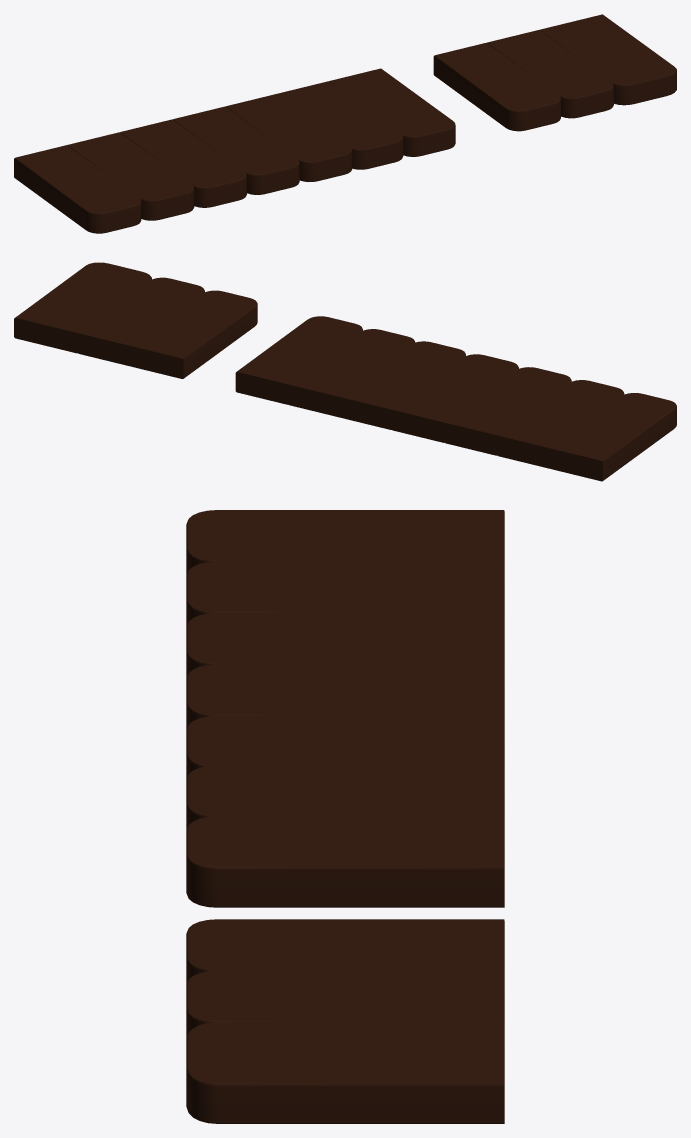
File: DockWoodPlanksOBJ.obj
3 renders of one model, top to bottom at view 1: azimuth 30°, elevation 25°; view 2: azimuth 150°, elevation 25°; view 3: azimuth 270°, elevation 25°, orthographic. The views are drawn at different scales.
Parts seen in each view (by area): view 1: WoodDock_Beam1 AllObjects AllObjects Objects, AllObjects AllObjects Objects WoodDock_Beam9, AllObjects AllObjects Objects WoodDock_Beam11, AllObjects AllObjects Objects WoodDock_Beam2, AllObjects AllObjects Objects WoodDock_Beam10, AllObjects AllObjects Objects WoodDock_Beam4, AllObjects AllObjects Objects WoodDock_Beam3, AllObjects AllObjects Objects WoodDock_Beam5, AllObjects AllObjects Objects WoodDock_Beam7, AllObjects AllObjects Objects WoodDock_Beam6; view 2: AllObjects AllObjects Objects WoodDock_Beam9, WoodDock_Beam1 AllObjects AllObjects Objects, AllObjects AllObjects Objects WoodDock_Beam11, AllObjects AllObjects Objects WoodDock_Beam10, AllObjects AllObjects Objects WoodDock_Beam2, AllObjects AllObjects Objects WoodDock_Beam3, AllObjects AllObjects Objects WoodDock_Beam4, AllObjects AllObjects Objects WoodDock_Beam7, AllObjects AllObjects Objects WoodDock_Beam5, AllObjects AllObjects Objects WoodDock_Beam6; view 3: AllObjects AllObjects Objects WoodDock_Beam11, AllObjects AllObjects Objects WoodDock_Beam7, AllObjects AllObjects Objects WoodDock_Beam10, AllObjects AllObjects Objects WoodDock_Beam3, AllObjects AllObjects Objects WoodDock_Beam4, AllObjects AllObjects Objects WoodDock_Beam9, WoodDock_Beam1 AllObjects AllObjects Objects, AllObjects AllObjects Objects WoodDock_Beam2, AllObjects AllObjects Objects WoodDock_Beam6, AllObjects AllObjects Objects WoodDock_Beam5.
Boxes of the visible parts, x1,y1,x2,y2 form: WoodDock_Beam1 AllObjects AllObjects Objects: (14, 145, 141, 233); AllObjects AllObjects Objects WoodDock_Beam9: (433, 42, 560, 131); AllObjects AllObjects Objects WoodDock_Beam11: (540, 14, 676, 105); AllObjects AllObjects Objects WoodDock_Beam2: (67, 132, 194, 220); AllObjects AllObjects Objects WoodDock_Beam10: (487, 30, 613, 118); AllObjects AllObjects Objects WoodDock_Beam4: (173, 106, 299, 194); AllObjects AllObjects Objects WoodDock_Beam3: (120, 119, 246, 207); AllObjects AllObjects Objects WoodDock_Beam5: (225, 93, 352, 181); AllObjects AllObjects Objects WoodDock_Beam7: (329, 68, 455, 156); AllObjects AllObjects Objects WoodDock_Beam6: (278, 81, 403, 169); AllObjects AllObjects Objects WoodDock_Beam9: (130, 290, 257, 378); WoodDock_Beam1 AllObjects AllObjects Objects: (549, 393, 676, 481); AllObjects AllObjects Objects WoodDock_Beam11: (14, 262, 151, 353); AllObjects AllObjects Objects WoodDock_Beam10: (77, 277, 204, 366); AllObjects AllObjects Objects WoodDock_Beam2: (496, 380, 624, 468); AllObjects AllObjects Objects WoodDock_Beam3: (444, 367, 571, 455); AllObjects AllObjects Objects WoodDock_Beam4: (391, 354, 518, 442); AllObjects AllObjects Objects WoodDock_Beam7: (235, 316, 362, 404); AllObjects AllObjects Objects WoodDock_Beam5: (338, 341, 465, 429); AllObjects AllObjects Objects WoodDock_Beam6: (288, 329, 415, 417); AllObjects AllObjects Objects WoodDock_Beam11: (186, 1022, 504, 1123); AllObjects AllObjects Objects WoodDock_Beam7: (186, 816, 504, 907); AllObjects AllObjects Objects WoodDock_Beam10: (186, 970, 504, 1046); AllObjects AllObjects Objects WoodDock_Beam3: (186, 613, 504, 689); AllObjects AllObjects Objects WoodDock_Beam4: (186, 664, 504, 740); AllObjects AllObjects Objects WoodDock_Beam9: (186, 919, 504, 995); WoodDock_Beam1 AllObjects AllObjects Objects: (186, 510, 504, 586); AllObjects AllObjects Objects WoodDock_Beam2: (186, 561, 504, 637); AllObjects AllObjects Objects WoodDock_Beam6: (186, 765, 504, 852); AllObjects AllObjects Objects WoodDock_Beam5: (186, 716, 504, 804).
Size of the model in its own units: 6.01 by 0.2018 by 1.41.
